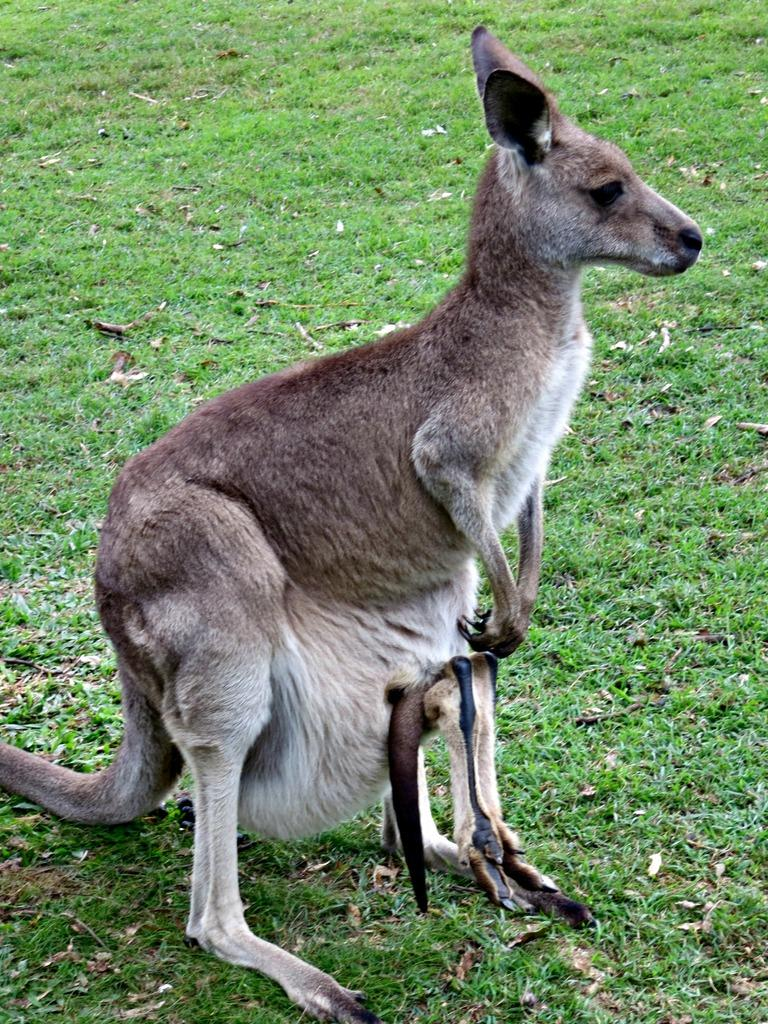kangaroo: (0, 28, 703, 1024)
